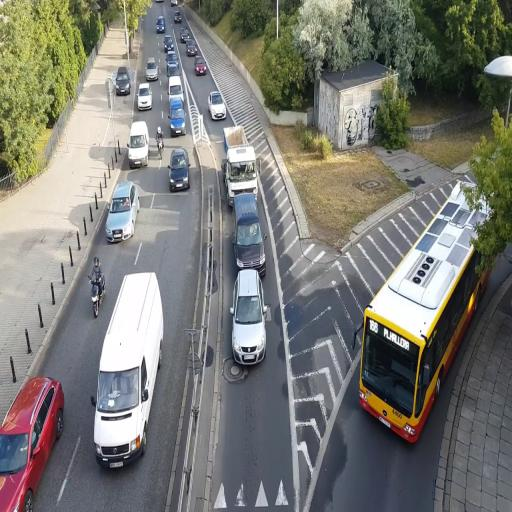vehicle: (358, 180, 482, 446), (91, 270, 164, 470), (92, 272, 164, 469), (0, 374, 65, 511), (232, 149, 266, 275), (231, 269, 268, 366), (232, 190, 266, 274), (224, 126, 258, 204), (106, 180, 138, 242), (168, 149, 190, 192), (129, 122, 150, 167), (208, 91, 227, 120), (114, 68, 131, 95), (136, 84, 152, 111), (146, 58, 158, 82), (194, 60, 208, 75)
